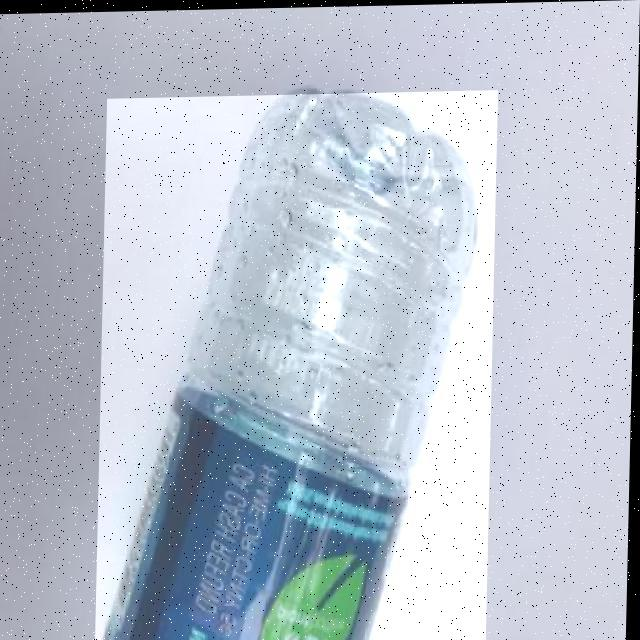plastic: (98, 89, 498, 640)
